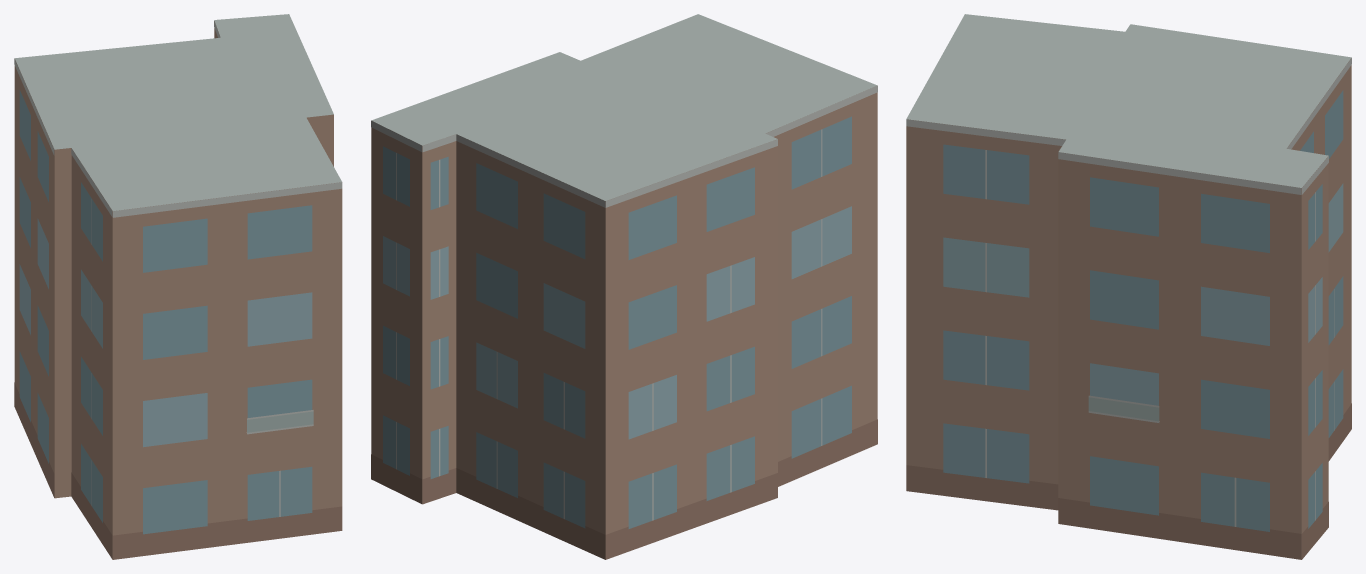
The model's file is survey-upis-32659014.glb.
3 renders of one model, left to right at view 1: azimuth 30°, elevation 25°; view 2: azimuth 150°, elevation 25°; view 3: azimuth 270°, elevation 25°, orthographic. The views are drawn at different scales.
Visible parts, largest first — view 1: survey-upis-32659014.tmp; view 2: survey-upis-32659014.tmp; view 3: survey-upis-32659014.tmp.
Boxes of the visible parts, box(x1,y1,x2,y2) form: survey-upis-32659014.tmp: box(14, 14, 342, 559); survey-upis-32659014.tmp: box(371, 14, 877, 559); survey-upis-32659014.tmp: box(906, 14, 1351, 559).
Bounding box in the file's own units: 12.86 × 12.8 × 13.91.
